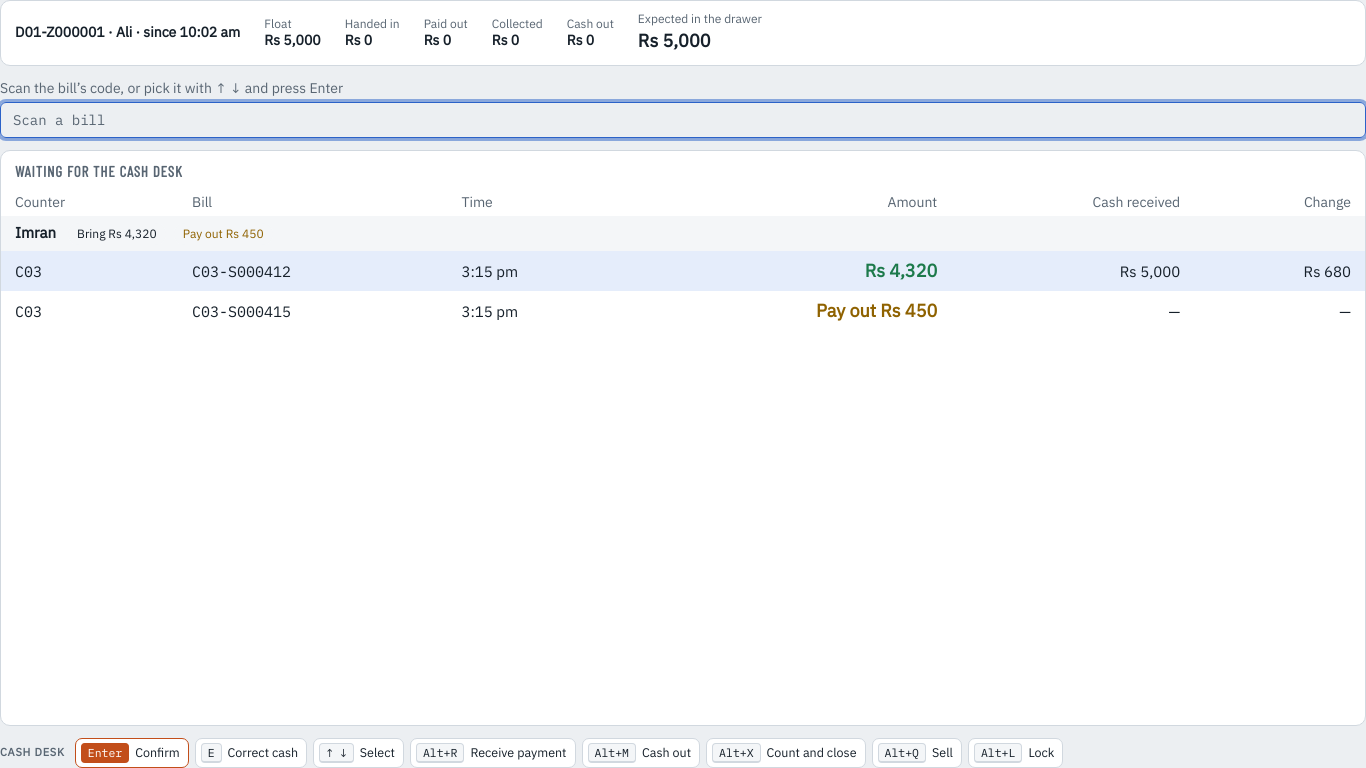
Test: the cash desk screen › refuses a correction below the amount due
Expected: the text "C03-S000412" is shown, [184,251,453,291]
Press e in the field named "Scan a bill", box [0,102,1365,138]
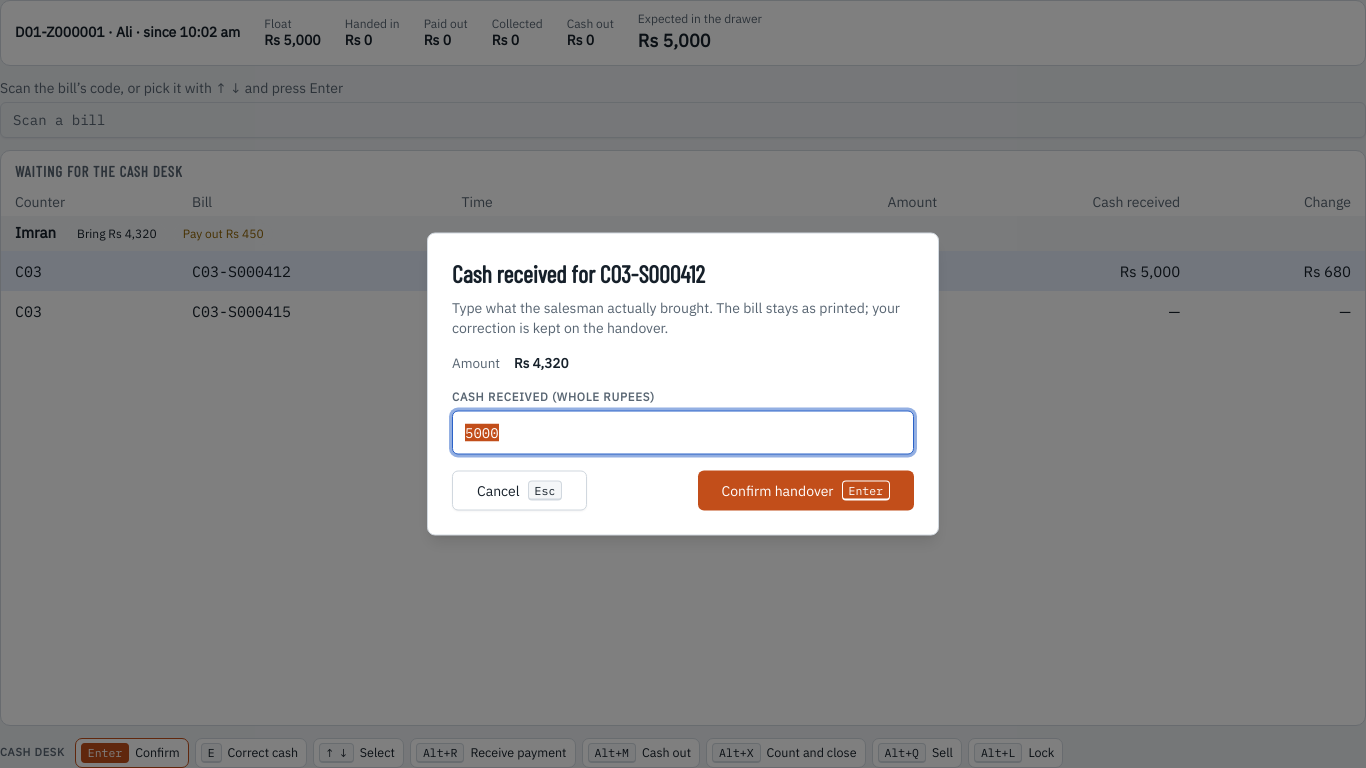
Replace the text in the field labelled "Cash received (whole rupees)" with "4000" at point(683, 432), box [452,410,914,454]
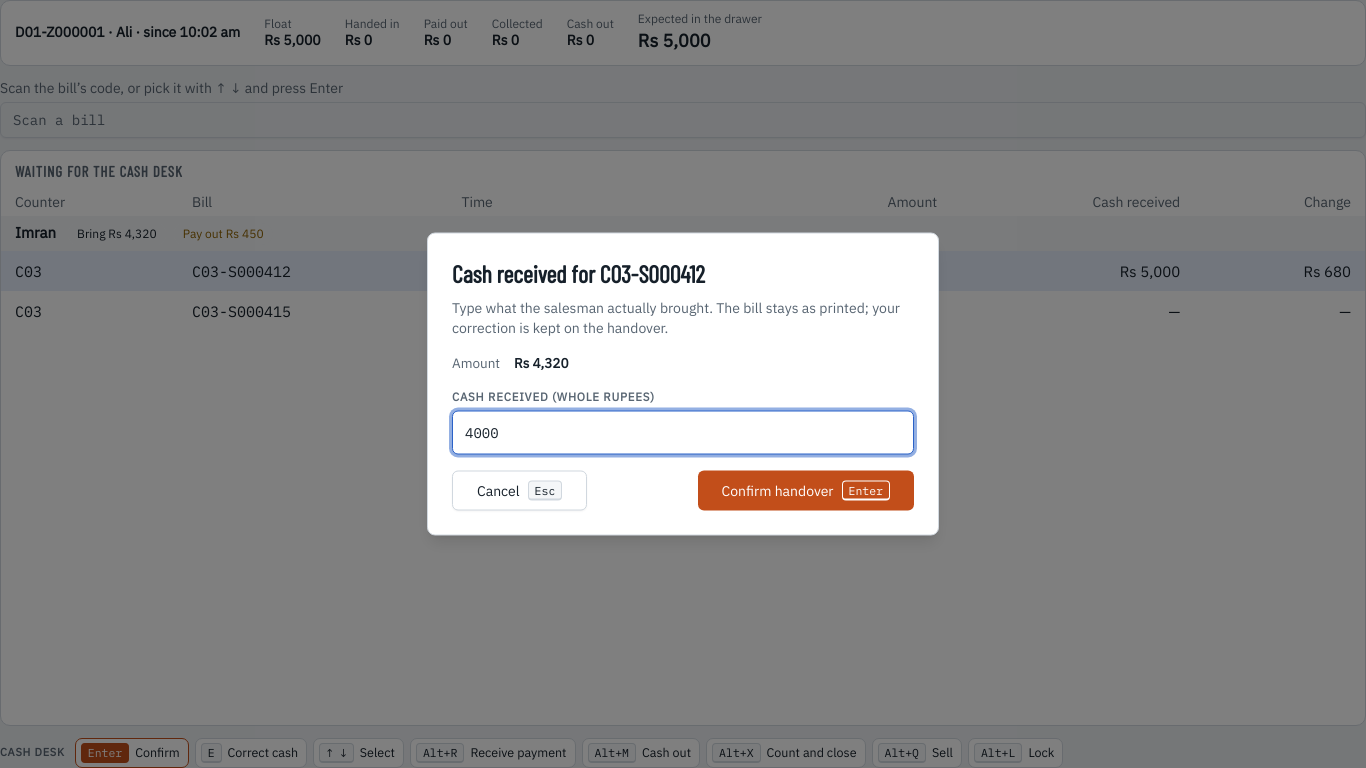
Click the button "Confirm handover Enter" at point(806, 490), box [698,470,914,510]
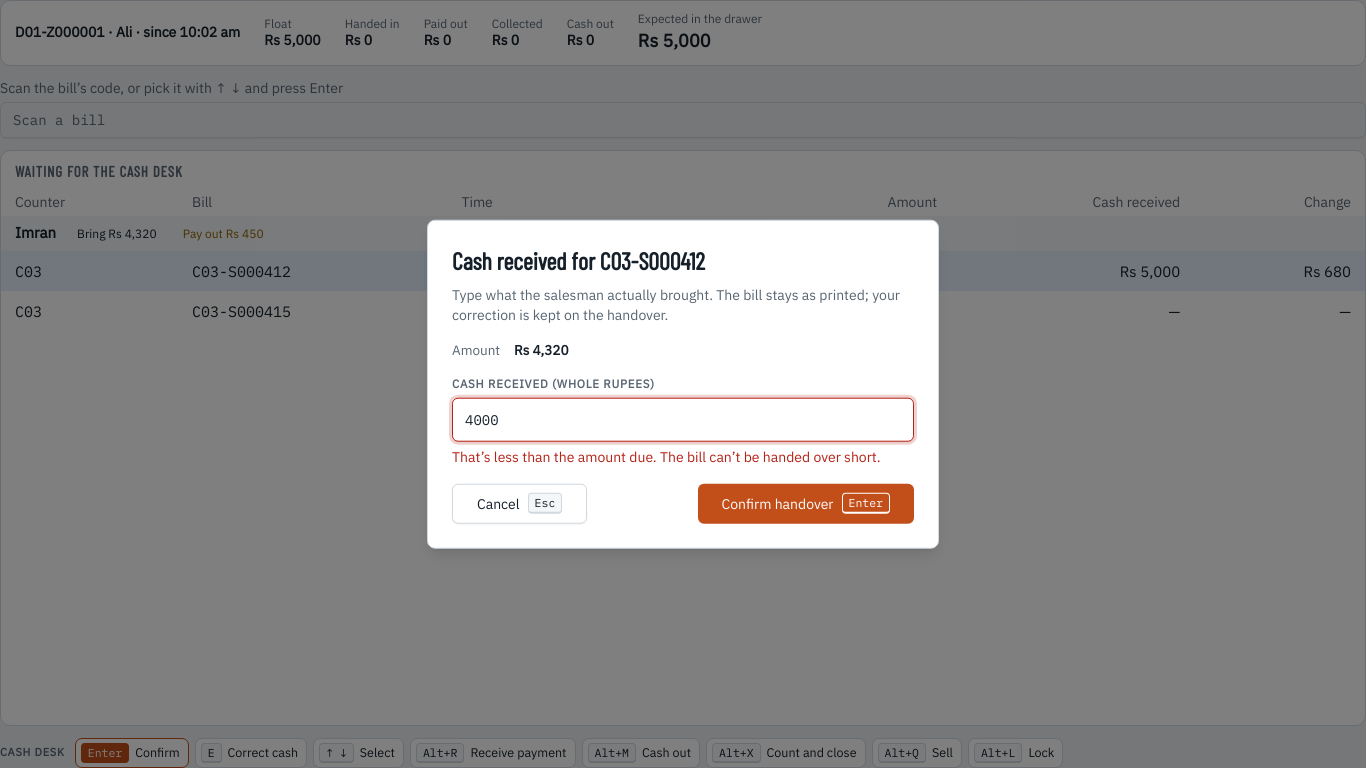
Result: the text "That’s less than the amount due. The bill can’t be handed over short." is shown at [452,448,914,467]
